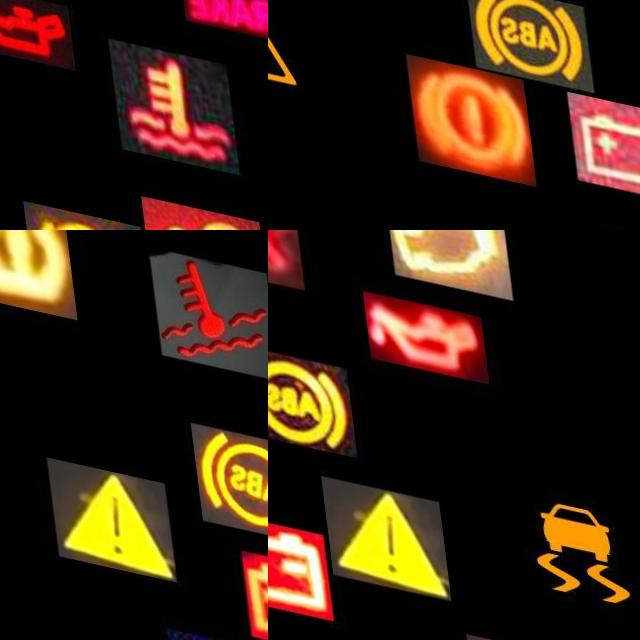Central Warning lamp: (38, 454, 166, 574), (312, 468, 440, 588)
Engine cooling system: (106, 28, 235, 160), (146, 237, 268, 366)
